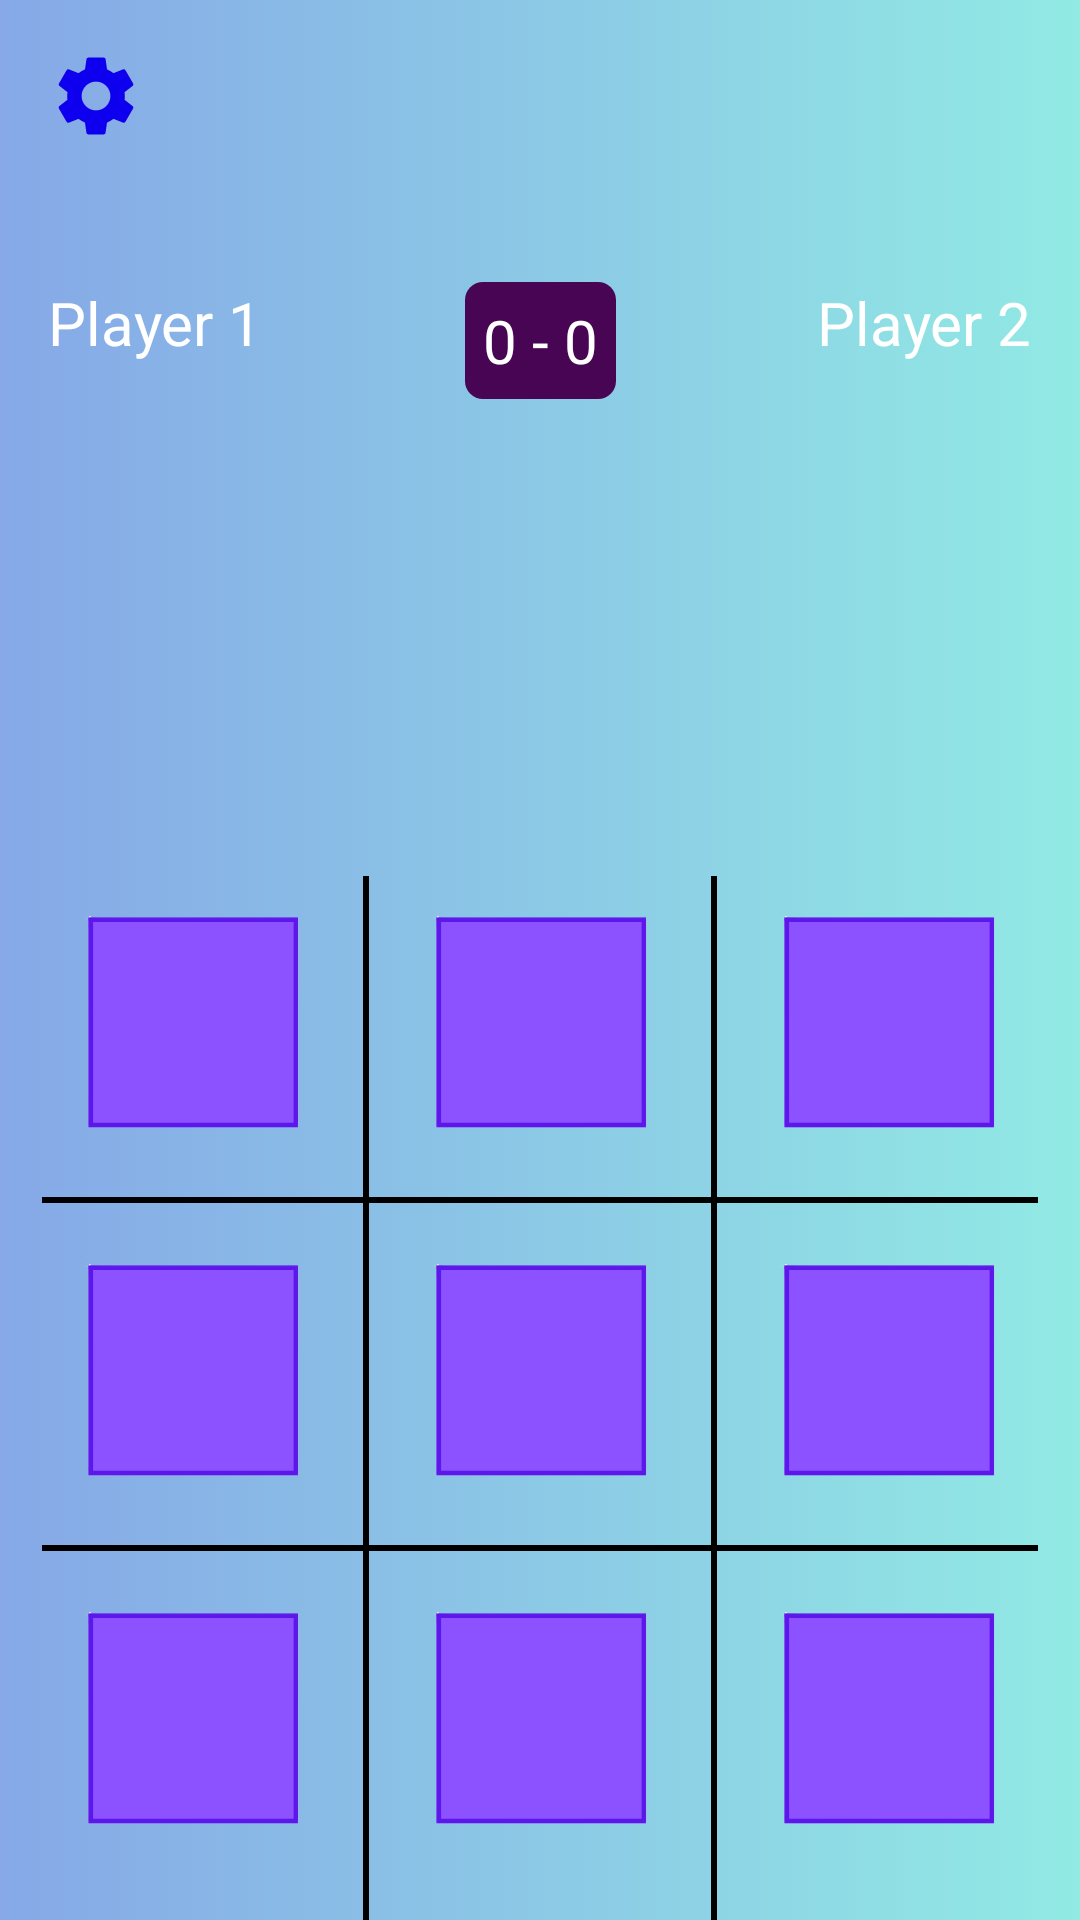

Named icons in this screenshot (1080 × 1920) and their bounding boxes, {"left": x1, "top": y1, "right": x2, "bottom": y2}:
settings: {"left": 58, "top": 57, "right": 134, "bottom": 135}
